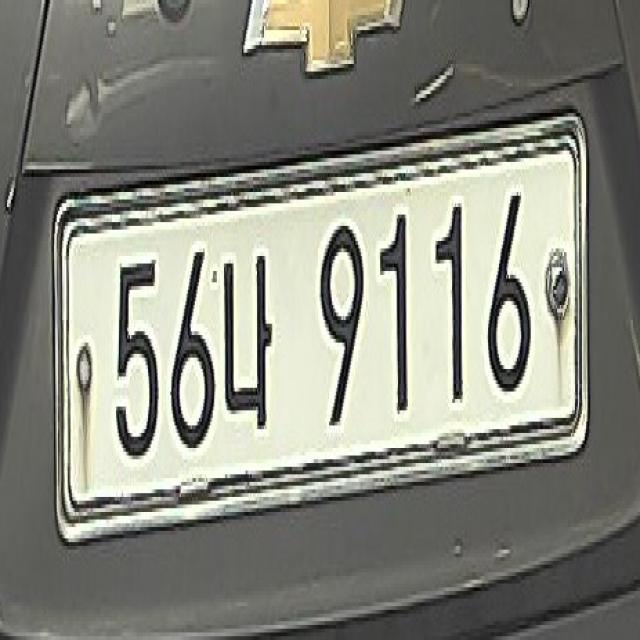plat: (50, 108, 590, 542)
